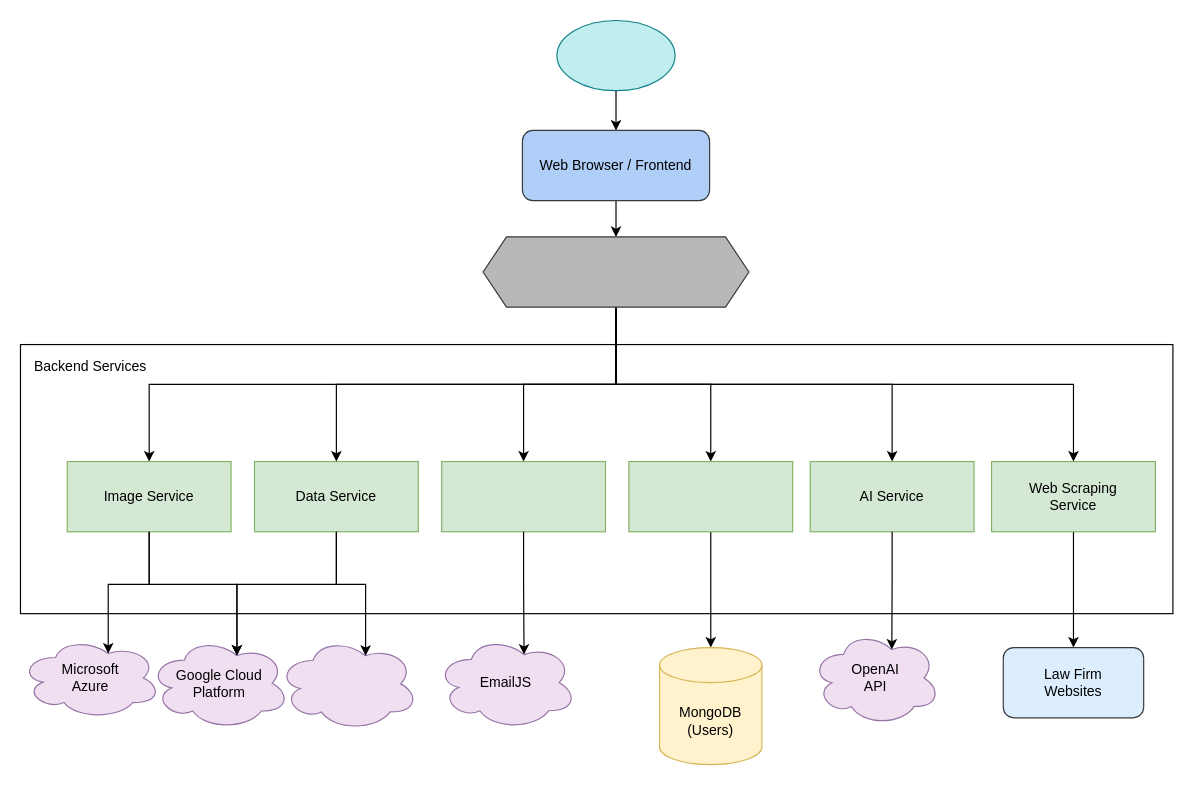
Some shapes in this 1193 by 785 pixel diagram are drawn without their labels. The shapes that lost their labels are listed below. From the top down, each one's box as (x1, y1, x2, y2) in pixels, then its label:
(556, 19, 675, 91): Users
(482, 236, 749, 307): API Gateway
(441, 460, 605, 532): Email service
(628, 460, 793, 532): User Service (Auth, login, signup)
(277, 636, 418, 731): Google Maps API
